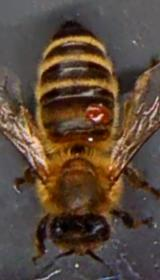varroa_mite: (76, 98, 118, 122)
